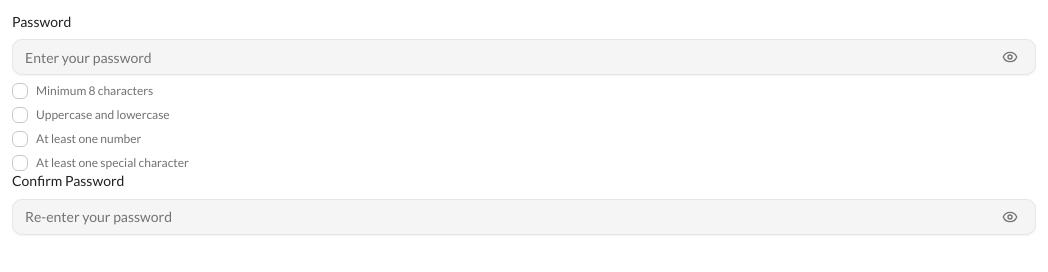
Test: PasswordFields Component › shows 'Password Strength: Good' when all rules satisfied
The image size is (1048, 272).
In the password field labelled "Password": x=524, y=57 [12,39,1036,75], type "Abc1234!"
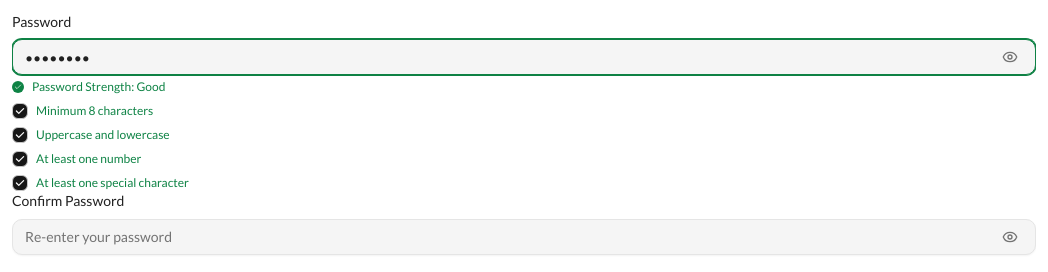
Result: the text "Password Strength: Good" is shown at [32,79,165,95]
